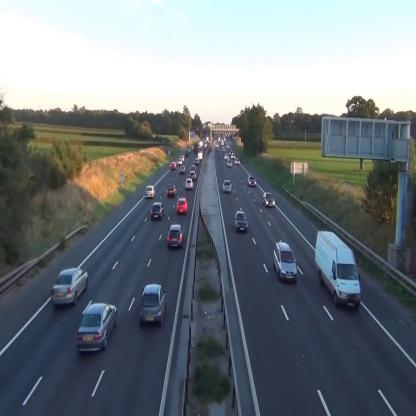car: (77, 302, 117, 352), (51, 268, 88, 306), (139, 283, 167, 327), (273, 243, 298, 283), (167, 224, 184, 249), (234, 211, 248, 233), (151, 202, 165, 220), (263, 192, 275, 209), (176, 198, 188, 214), (145, 185, 156, 199), (222, 179, 232, 192), (167, 185, 177, 197), (247, 175, 256, 187), (185, 178, 193, 190), (189, 171, 196, 180), (170, 162, 176, 169), (180, 166, 185, 173)
lorry: (315, 230, 361, 312)
